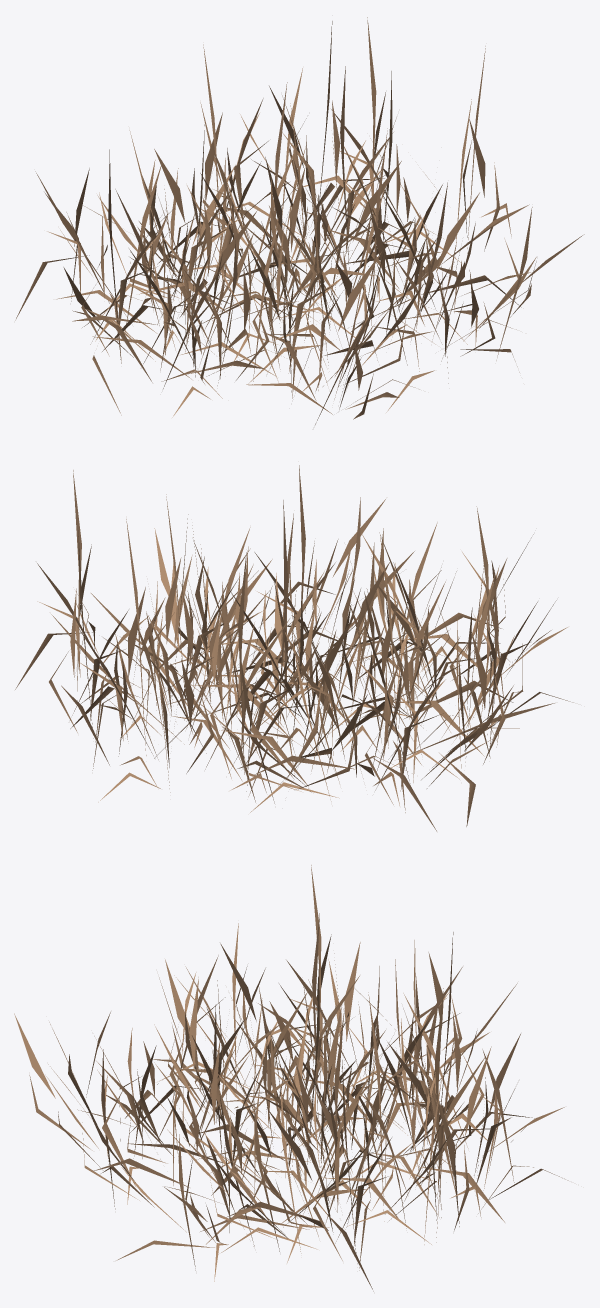
File: capim_seco.gltf
The picture shows the model from 3 angles, top to bottom: view 1: azimuth 30°, elevation 25°; view 2: azimuth 150°, elevation 25°; view 3: azimuth 270°, elevation 25°; orthographic projection.
Parts seen in each view (by area): view 1: capim_seco; view 2: capim_seco; view 3: capim_seco.
Boxes of the visible parts, <box> form: capim_seco: <box>15,17,584,424</box>; capim_seco: <box>15,465,573,831</box>; capim_seco: <box>14,865,568,1291</box>.
Size of the model in its own units: 1.06 by 0.6 by 1.07.
1 material, 1 textured.
